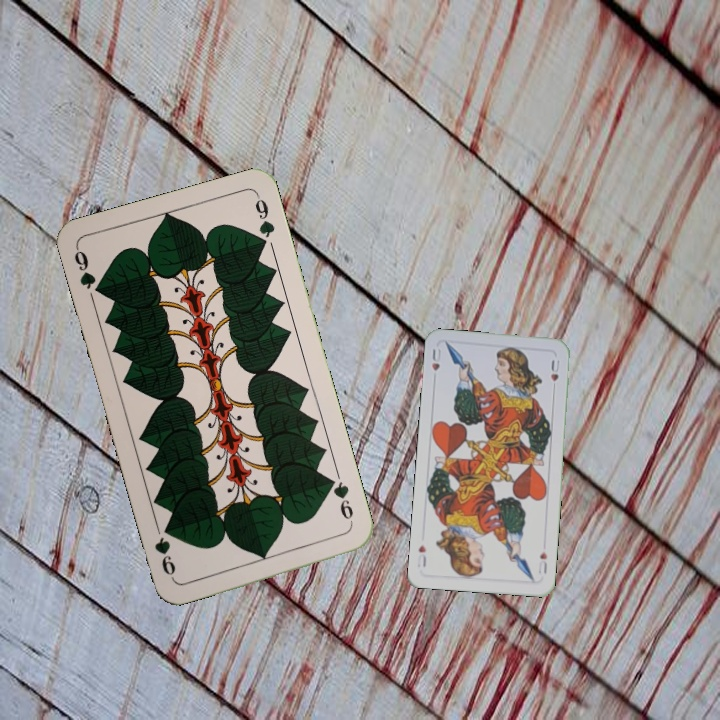G9: (70, 244, 106, 298), (324, 474, 356, 529)
HU: (534, 547, 549, 576), (428, 344, 443, 373)
